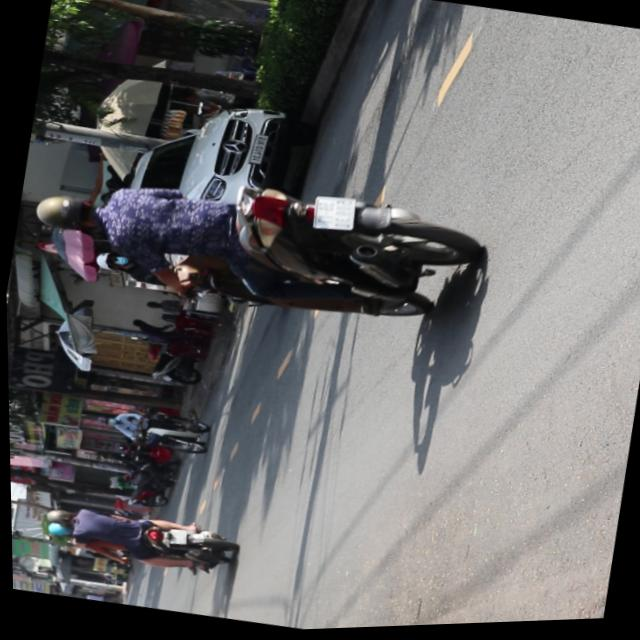helmet: (29, 186, 104, 237), (41, 504, 73, 525), (41, 518, 71, 538)
licenseplate: (17, 132, 490, 355), (34, 493, 238, 586)
nohelmet: (309, 193, 355, 234), (165, 528, 184, 545)
